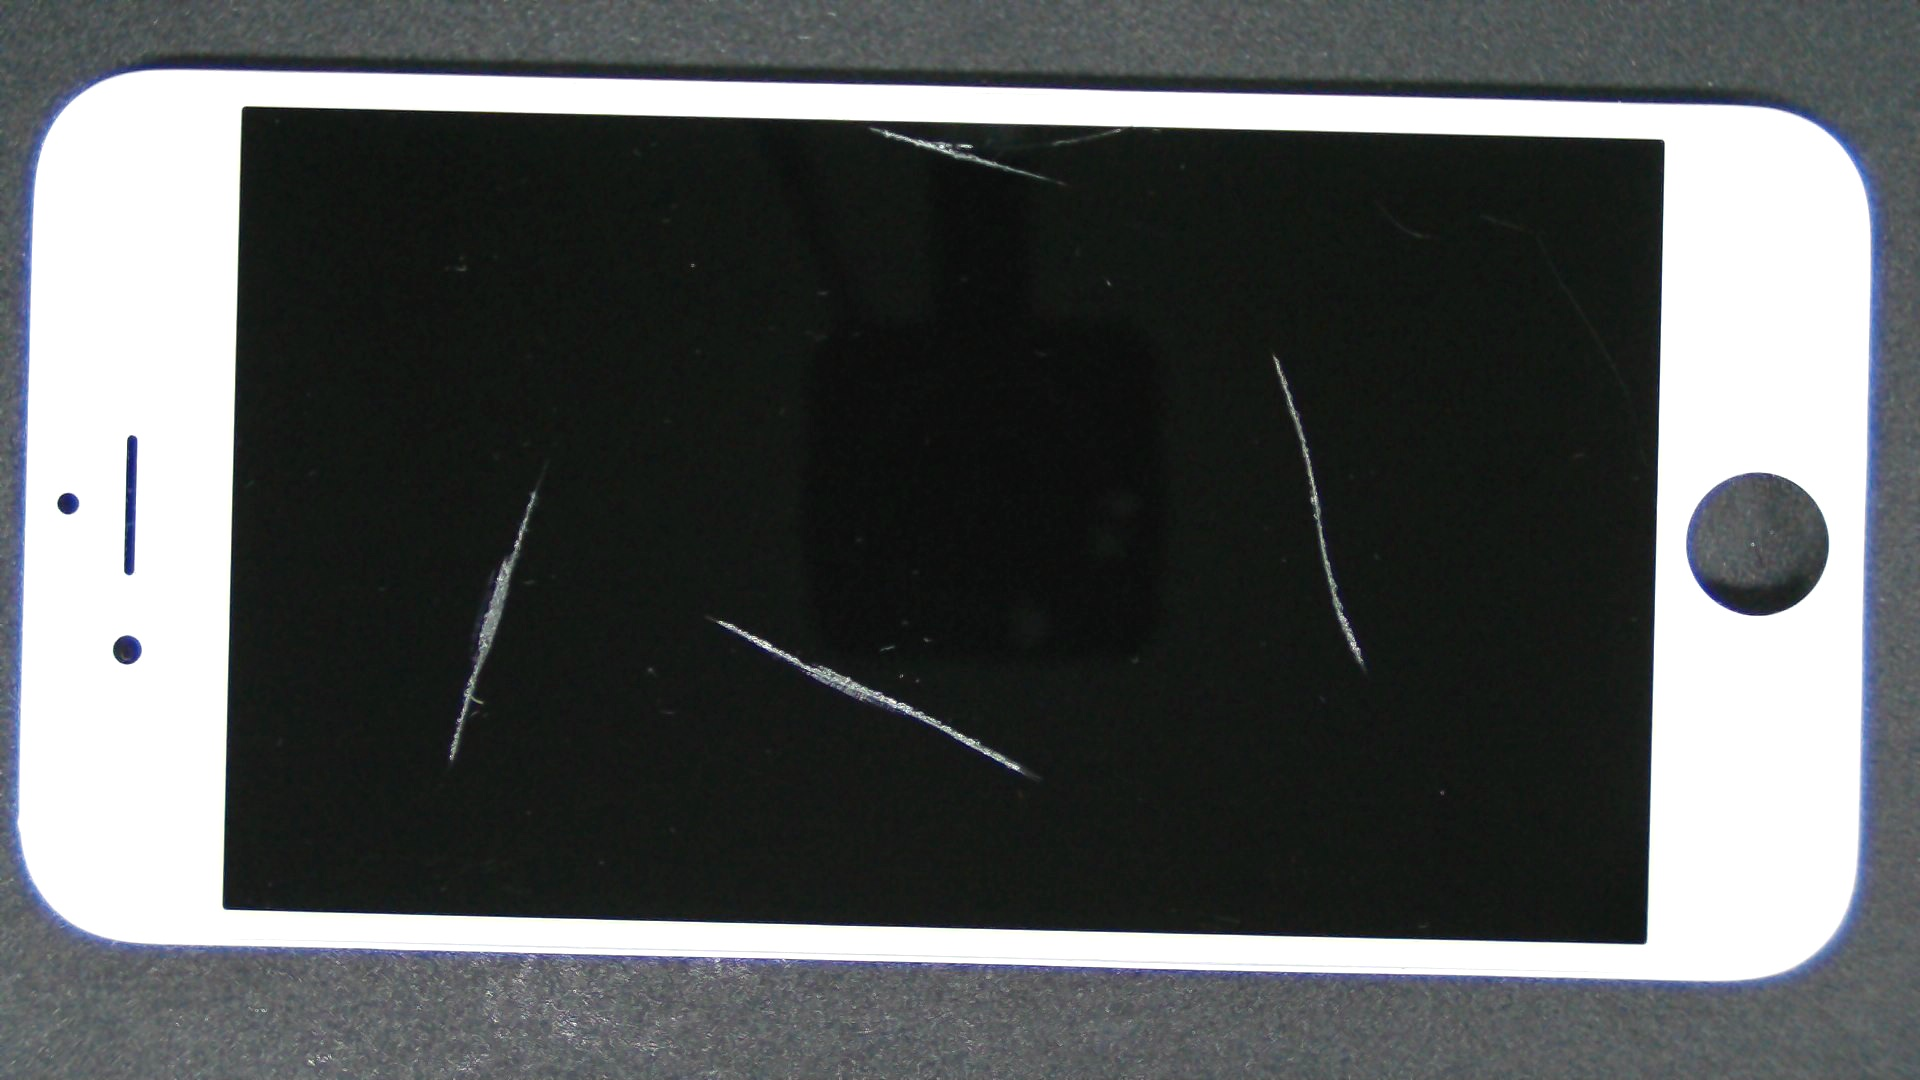oil: (636, 175, 1908, 529), (353, 306, 1072, 931), (266, 245, 796, 737), (434, 62, 1302, 190)
